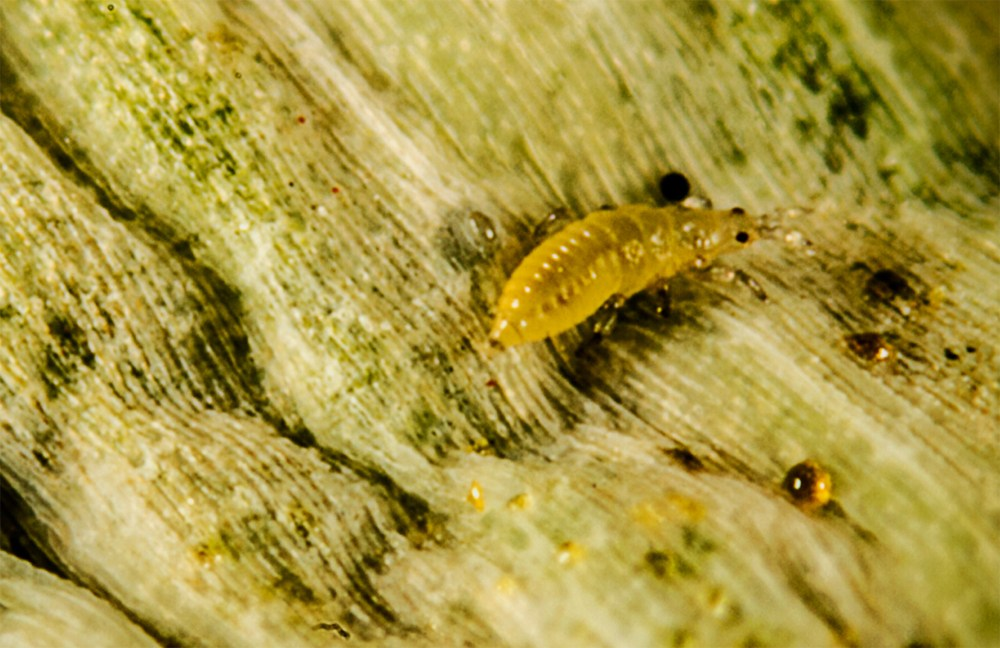Thrips: (466, 181, 786, 352)
